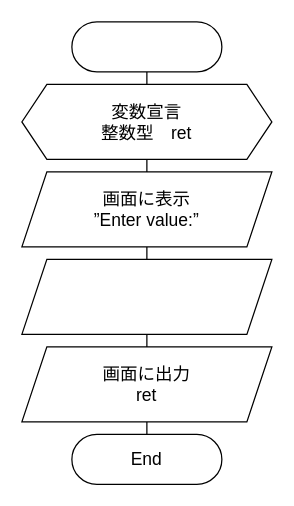
This 294x506 diagram has some shape labels left out. Here are the shapes that lost their labels. From the top down, the box of each, then its label:
(71, 21, 222, 72): Start
(21, 258, 272, 334): キーボードから入力 ⇨ 変数ret
